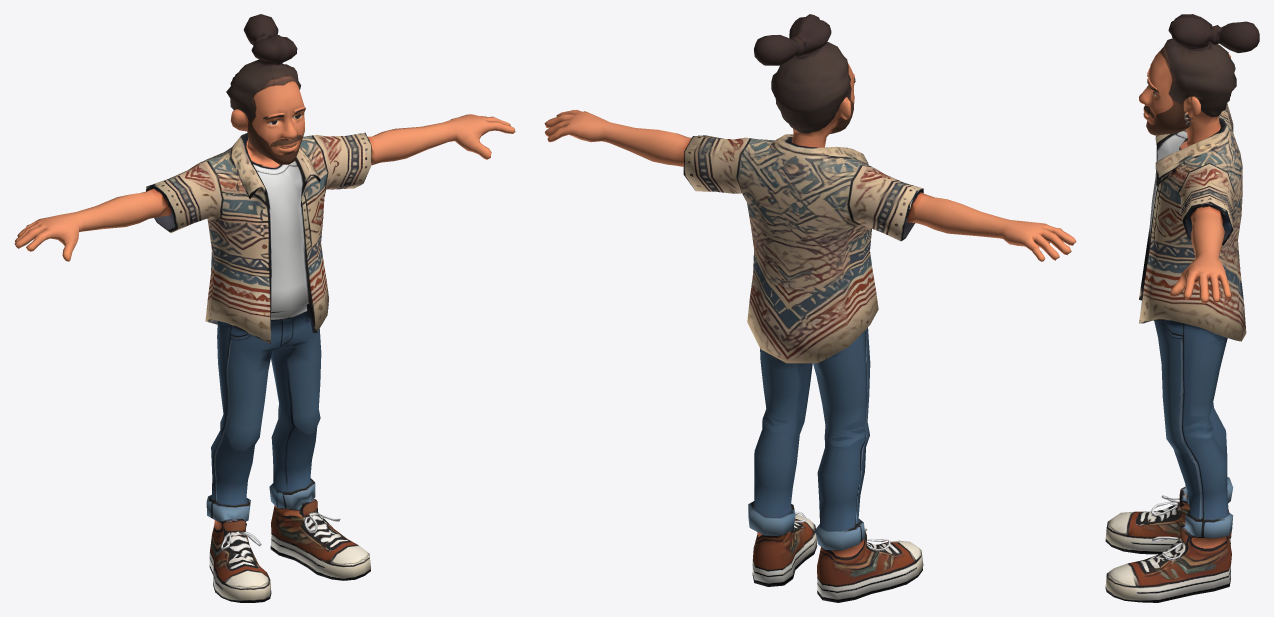
Rendered from Kiki.fbx.
The picture shows the model from 3 angles, left to right: view 1: azimuth 30°, elevation 25°; view 2: azimuth 150°, elevation 25°; view 3: azimuth 270°, elevation 25°; orthographic projection. The views are drawn at different scales.
Visible parts, largest first — view 1: tripo_node_5d338730-95d4-44db-b702-902dac3064a9; view 2: tripo_node_5d338730-95d4-44db-b702-902dac3064a9; view 3: tripo_node_5d338730-95d4-44db-b702-902dac3064a9.
Part boxes in pixels (x1,y1,x2,y2): tripo_node_5d338730-95d4-44db-b702-902dac3064a9: (14,14,515,602); tripo_node_5d338730-95d4-44db-b702-902dac3064a9: (544,14,1076,602); tripo_node_5d338730-95d4-44db-b702-902dac3064a9: (1105,14,1259,602).
Bounding box in the file's own units: 0.9824 × 0.998 × 0.252.
1 material, 1 textured.
